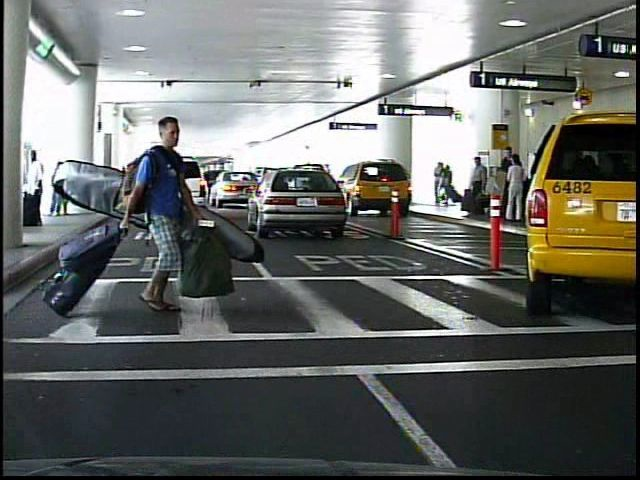person: (125, 109, 204, 338), (21, 152, 46, 232), (467, 157, 490, 220), (496, 143, 515, 216), (505, 154, 524, 224), (431, 162, 442, 208), (442, 163, 453, 207)
